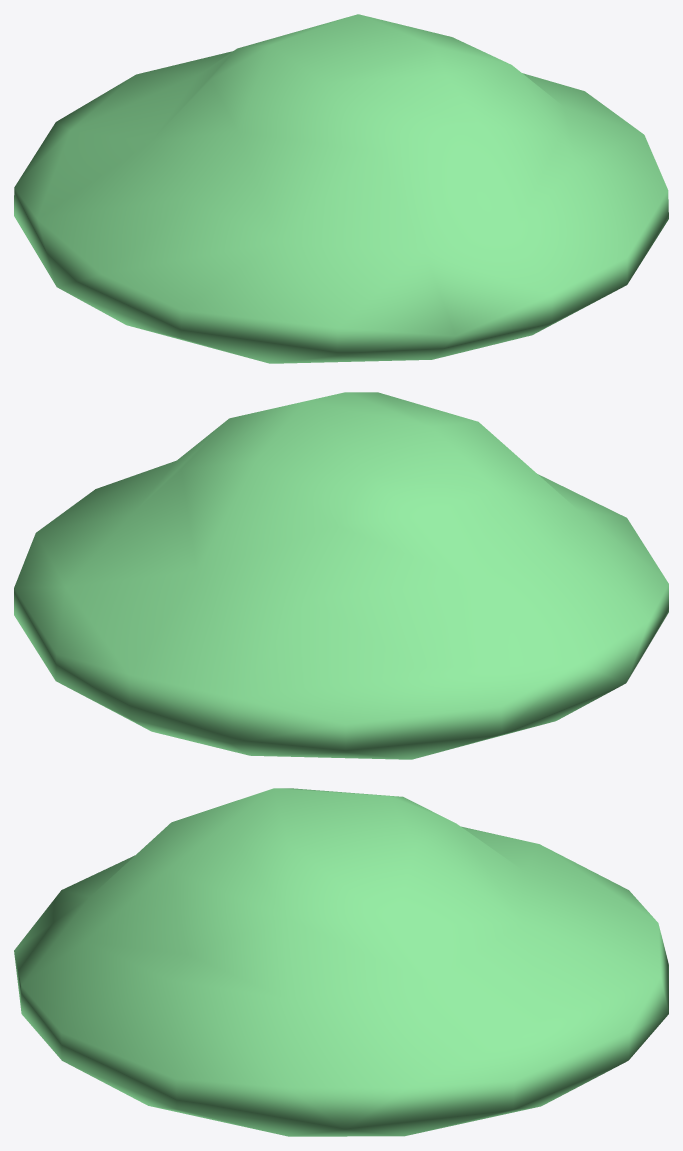
Rendered from Slime.glb.
3 renders of one model, top to bottom at view 1: azimuth 30°, elevation 25°; view 2: azimuth 150°, elevation 25°; view 3: azimuth 270°, elevation 25°, orthographic.
Parts seen in each view (by area): view 1: Mball.002; view 2: Mball.002; view 3: Mball.002.
Boxes of the visible parts, x1,y1,x2,y2 form: Mball.002: (14,14,668,363); Mball.002: (14,392,668,759); Mball.002: (14,788,668,1136).
Bounding box in the file's own units: 0.7928 × 0.3227 × 0.7838.
